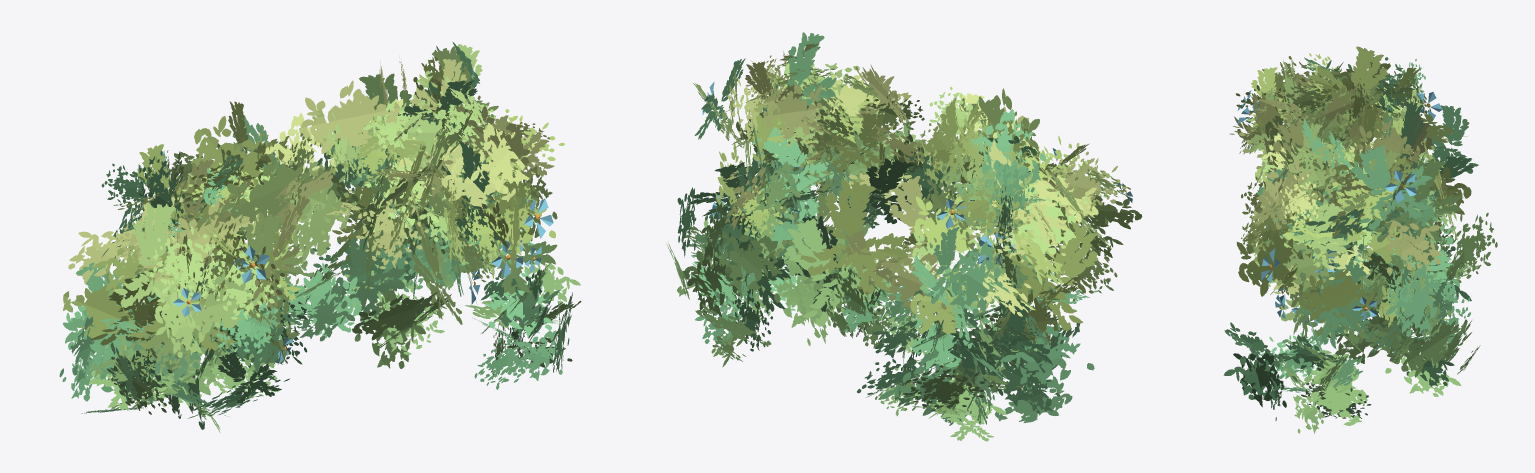
File: Hedge_03_Flower_Blue_LOD1.glb
3 renders of one model, left to right at view 1: azimuth 30°, elevation 25°; view 2: azimuth 150°, elevation 25°; view 3: azimuth 270°, elevation 25°, orthographic. The views are drawn at different scales.
Visible parts, largest first — view 1: Hedge_03_Flower_Blue_LOD1; view 2: Hedge_03_Flower_Blue_LOD1; view 3: Hedge_03_Flower_Blue_LOD1.
Boxes of the visible parts, left/top/right/bottom form: Hedge_03_Flower_Blue_LOD1: left=59, top=42, right=581, bottom=432; Hedge_03_Flower_Blue_LOD1: left=666, top=32, right=1142, bottom=441; Hedge_03_Flower_Blue_LOD1: left=1223, top=46, right=1497, bottom=433.
Bounding box in the file's own units: 2.71 × 1.74 × 1.65.
8 materials, 6 textured.
